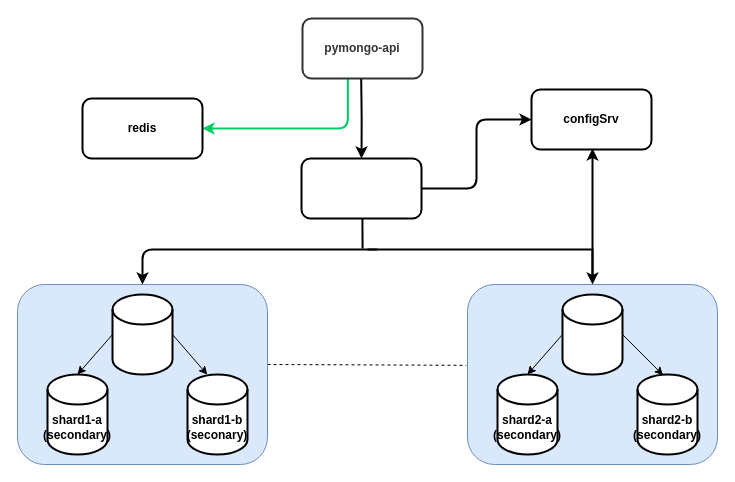
The diagram is 735 pixels wide and 482 high, and some of its shapes have lost their labels. Here are the shapes that lost their labels. From the top down, the box of each, then its label:
(300, 157, 422, 219): router
(111, 293, 173, 375): shard1 (primary)
(561, 293, 623, 375): shard2 (primary)
